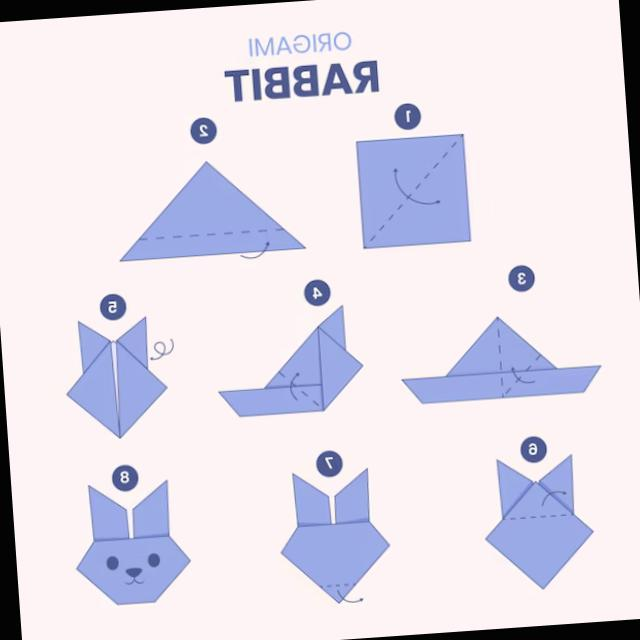arrow: (393, 169, 438, 204), (240, 242, 268, 259), (150, 340, 172, 359), (511, 367, 533, 384), (541, 491, 565, 506), (336, 590, 362, 602), (288, 373, 298, 400)
fold-line: (359, 132, 466, 251), (136, 225, 288, 243), (274, 369, 326, 411), (499, 352, 543, 398), (492, 314, 507, 401), (496, 510, 577, 524), (312, 580, 362, 591)
